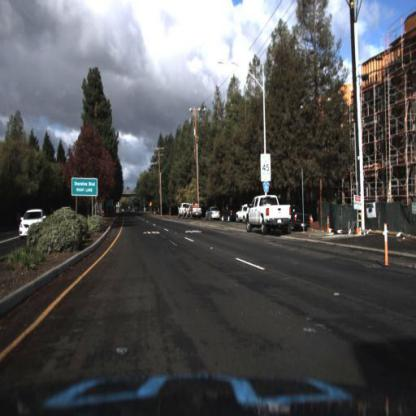car: (248, 194, 291, 234), (17, 206, 51, 241), (293, 207, 313, 233), (219, 201, 237, 222), (236, 203, 249, 226), (206, 208, 221, 222)
truck: (187, 204, 202, 220), (179, 204, 192, 218)
